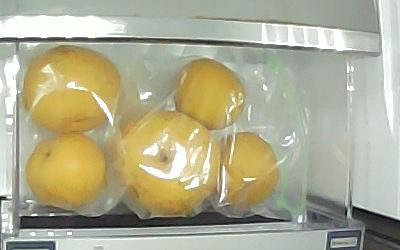pear_vinyl: (118, 111, 218, 219), (24, 46, 123, 135), (26, 135, 107, 210), (173, 58, 247, 132), (216, 132, 279, 208)
